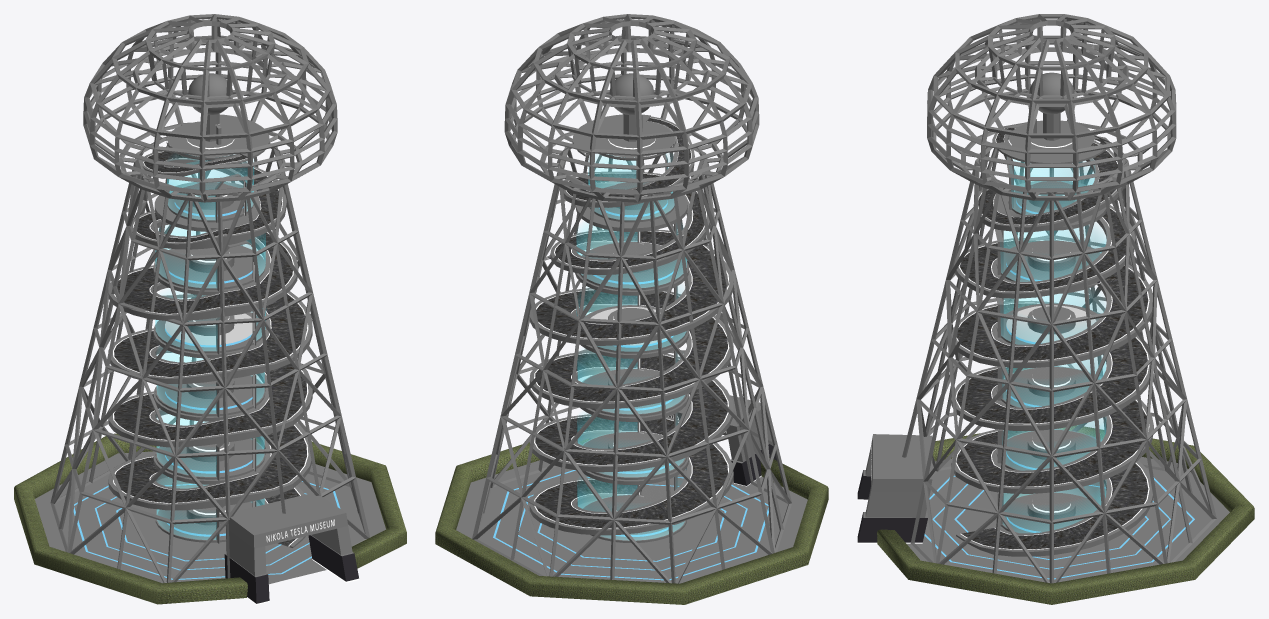
The model's file is tower-main.glb.
The picture shows the model from 3 angles, left to right: view 1: azimuth 30°, elevation 25°; view 2: azimuth 150°, elevation 25°; view 3: azimuth 270°, elevation 25°; orthographic projection.
Parts seen in each view (by area): view 1: body, head, floors, level.001, level.002, level.013, entrance, level.004, level.006, level.005, coil, level.011; view 2: body, floors, head, level.006, level.001, level.013, level.002, level.004, level.005, entrance, coil; view 3: body, head, floors, level.013, level.006, level.001, level.002, level.004, entrance, level.005, coil, level.003 (+5 smaller).
Part boxes in pixels (bbox=[...]): body: bbox=[50, 136, 369, 582]; head: bbox=[83, 14, 337, 202]; floors: bbox=[14, 433, 406, 604]; level.001: bbox=[108, 386, 311, 488]; level.002: bbox=[108, 323, 312, 425]; level.013: bbox=[108, 260, 312, 361]; entrance: bbox=[224, 493, 359, 604]; level.004: bbox=[130, 181, 298, 293]; level.006: bbox=[108, 452, 305, 547]; level.005: bbox=[142, 114, 286, 227]; coil: bbox=[186, 73, 234, 149]; level.011: bbox=[189, 247, 234, 272]; body: bbox=[472, 143, 791, 583]; floors: bbox=[435, 439, 828, 604]; head: bbox=[504, 14, 759, 202]; level.006: bbox=[529, 417, 733, 542]; level.001: bbox=[529, 353, 733, 479]; level.013: bbox=[529, 229, 733, 353]; level.002: bbox=[529, 290, 733, 416]; level.004: bbox=[547, 172, 710, 290]; level.005: bbox=[563, 114, 694, 222]; entrance: bbox=[668, 395, 776, 486]; coil: bbox=[608, 73, 655, 149]; body: bbox=[902, 136, 1216, 583]; head: bbox=[927, 14, 1176, 200]; floors: bbox=[877, 425, 1254, 604]; level.013: bbox=[955, 238, 1152, 367]; level.006: bbox=[951, 429, 1153, 556]; level.001: bbox=[951, 366, 1153, 493]; level.002: bbox=[951, 300, 1150, 430]; level.004: bbox=[967, 181, 1135, 298]; entrance: bbox=[857, 434, 932, 543]; level.005: bbox=[980, 120, 1124, 232]; coil: bbox=[1029, 72, 1074, 147]; level.003: bbox=[1027, 495, 1075, 519].
Size of what is drawn, in the model's own units: 30.04 by 40.3 by 29.42.
10 materials, 5 textured.
